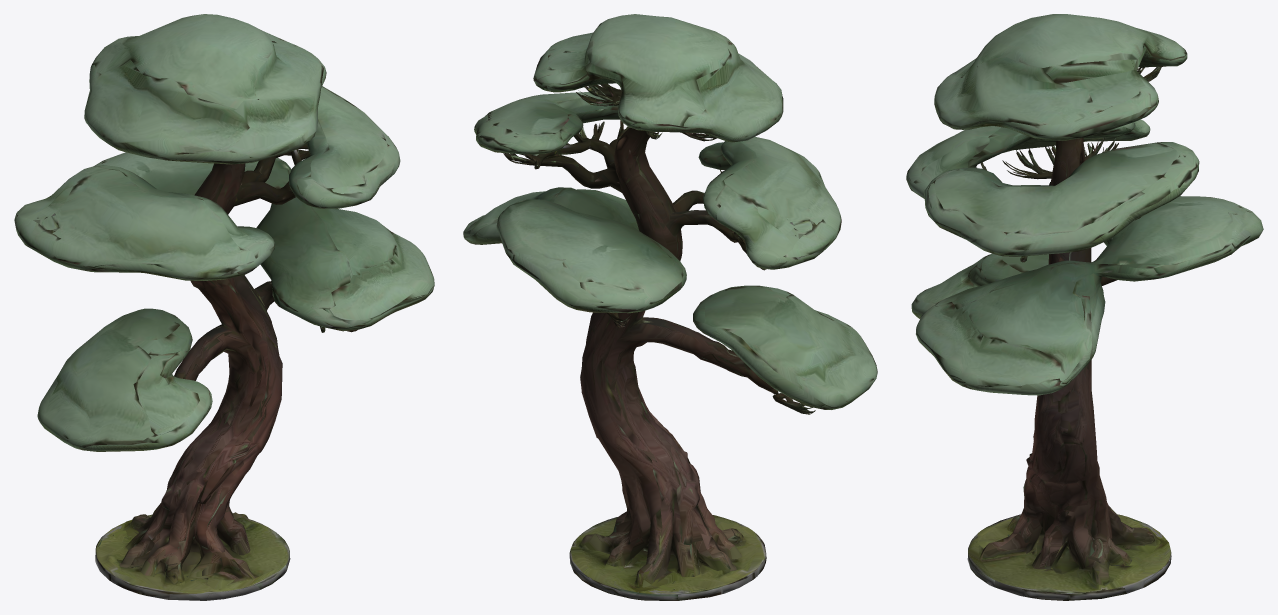
The model's file is pineTreeA-compressed.glb.
3 renders of one model, left to right at view 1: azimuth 30°, elevation 25°; view 2: azimuth 150°, elevation 25°; view 3: azimuth 270°, elevation 25°, orthographic. The views are drawn at different scales.
Parts seen in each view (by area): view 1: node_0; view 2: node_0; view 3: node_0.
Part boxes in pixels (box(x1,y1,x2,y2)): node_0: box(14, 14, 434, 600); node_0: box(463, 14, 877, 600); node_0: box(906, 14, 1263, 600).
Size of the model in its own units: 2.11 by 2.8 by 1.67.
Materials: 1 (1 with a texture image).
